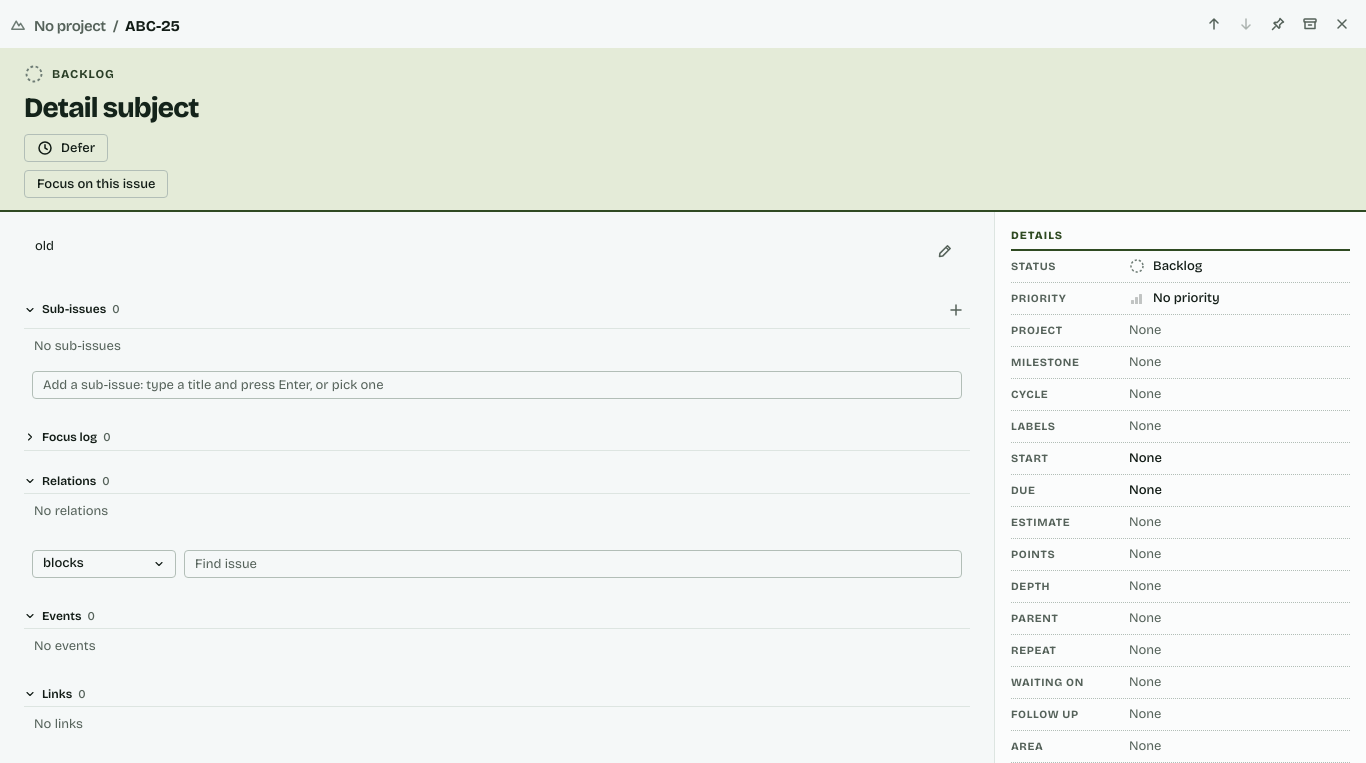
it: IssueDetail › description_edit_preview_and_save
Click the button named "Edit description": (945, 251) [931,237,959,265]
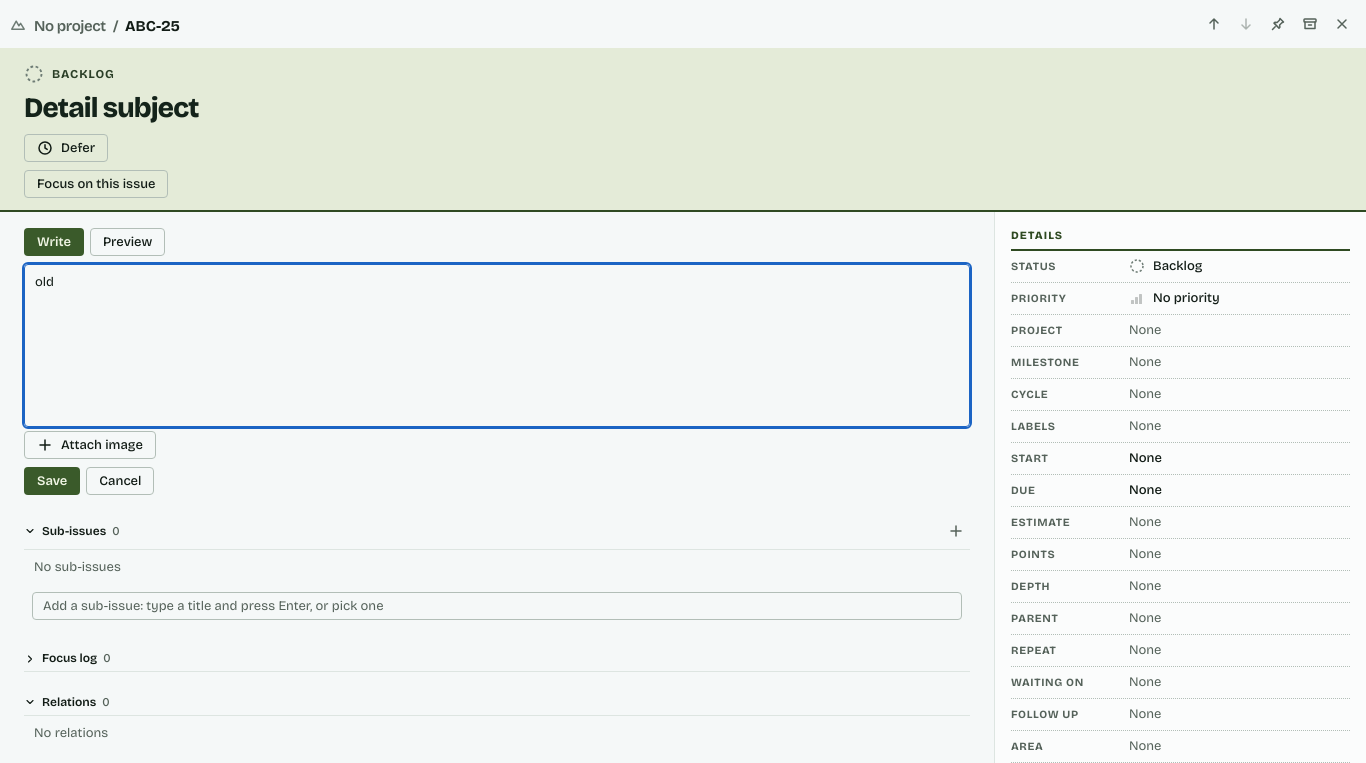
Replace the text in the text box named "Description text" with "new *text*": (497, 345) [24,264,970,427]
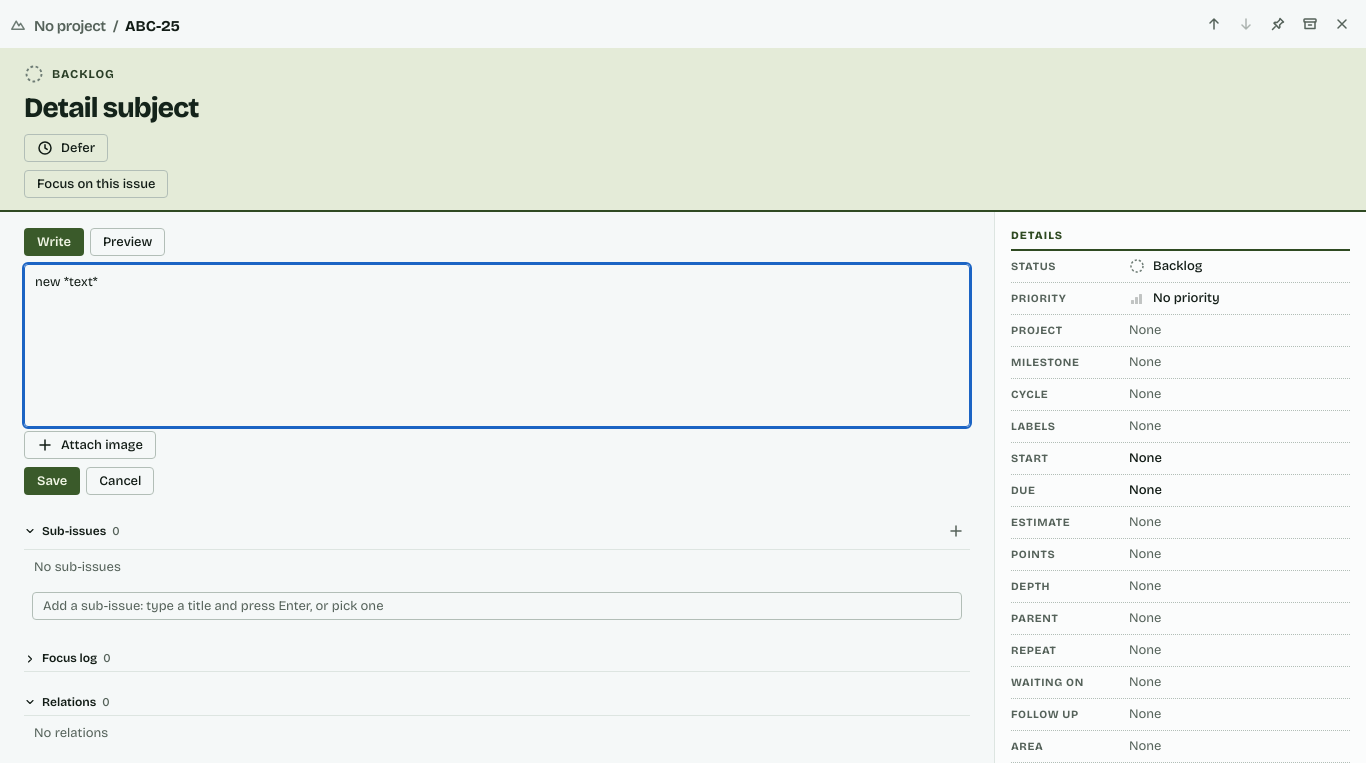
Click the button "Preview": (128, 242) [90,228,165,256]
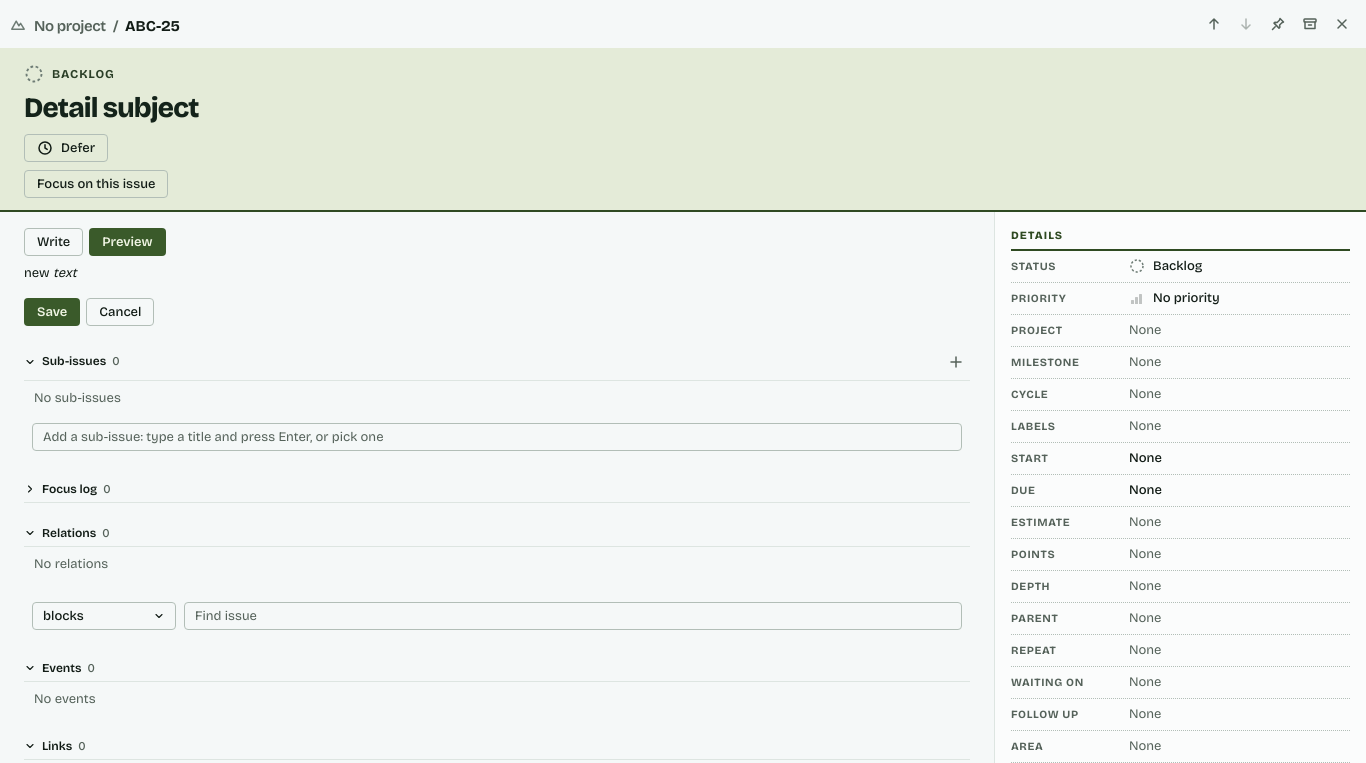
Click the button "Save": (52, 312) [24,298,80,326]
(page scrolled)
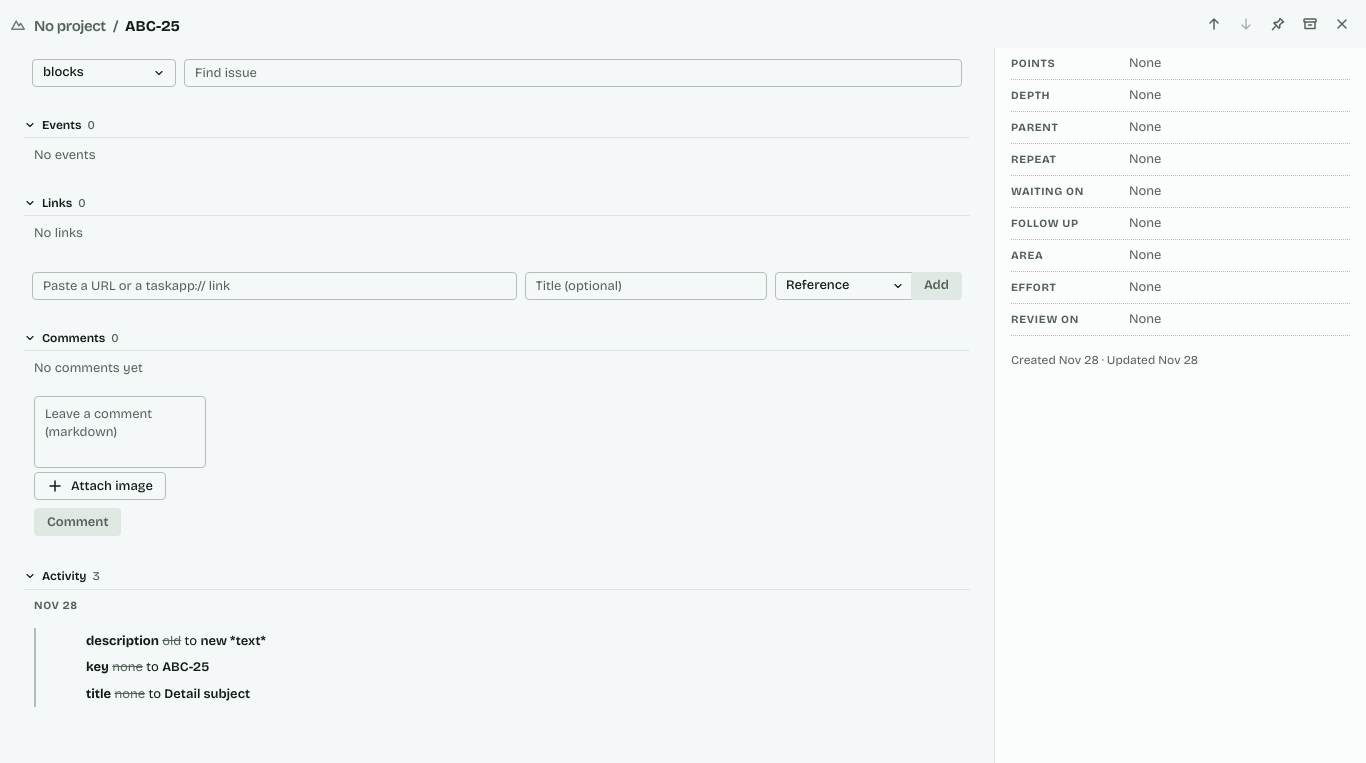
Check: the text "new *text*" is shown, box [200,633,266,649]
